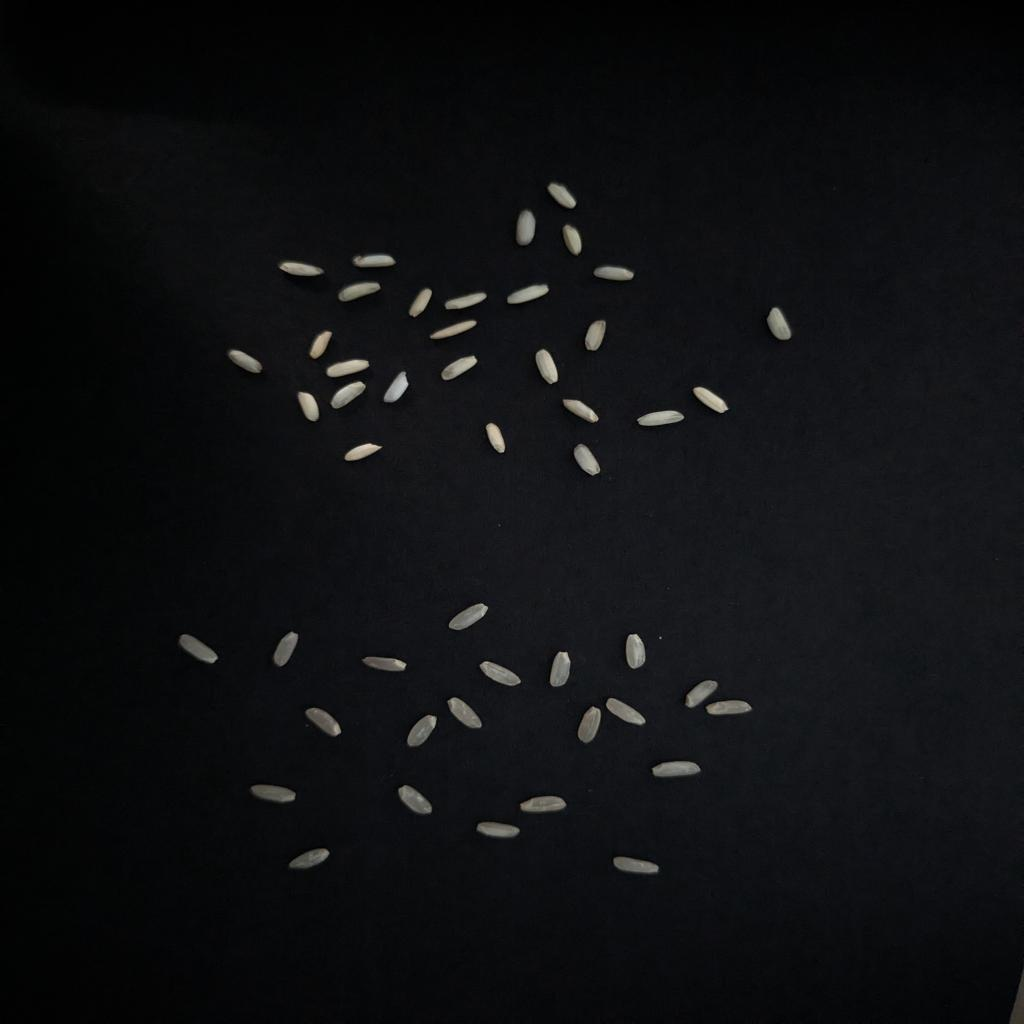chalky: (429, 320, 477, 340), (693, 386, 727, 414), (226, 350, 264, 374), (330, 382, 365, 408), (506, 284, 549, 304), (338, 282, 381, 302), (442, 356, 477, 380), (573, 444, 599, 476), (535, 350, 559, 384), (562, 400, 599, 422), (767, 308, 791, 340), (637, 410, 685, 426), (445, 292, 487, 310), (328, 360, 370, 378), (408, 288, 432, 318), (384, 372, 408, 402), (549, 182, 575, 208), (280, 260, 322, 276), (309, 330, 333, 358), (344, 444, 381, 462), (298, 392, 320, 422), (517, 210, 535, 246), (594, 266, 634, 282), (586, 320, 607, 350), (485, 424, 506, 454), (562, 224, 581, 256), (352, 254, 394, 268)
good-rice: (178, 634, 218, 664), (605, 698, 645, 726), (447, 698, 482, 728), (447, 604, 487, 630), (479, 662, 522, 686), (397, 786, 432, 814), (306, 708, 341, 736), (685, 680, 719, 708), (408, 714, 437, 746), (288, 848, 330, 870), (250, 784, 296, 804), (519, 796, 567, 814), (653, 760, 701, 778), (578, 706, 602, 742), (274, 632, 298, 666), (613, 856, 658, 874), (362, 656, 408, 672), (706, 700, 751, 716), (549, 652, 570, 686), (477, 822, 519, 838), (626, 634, 645, 668)
